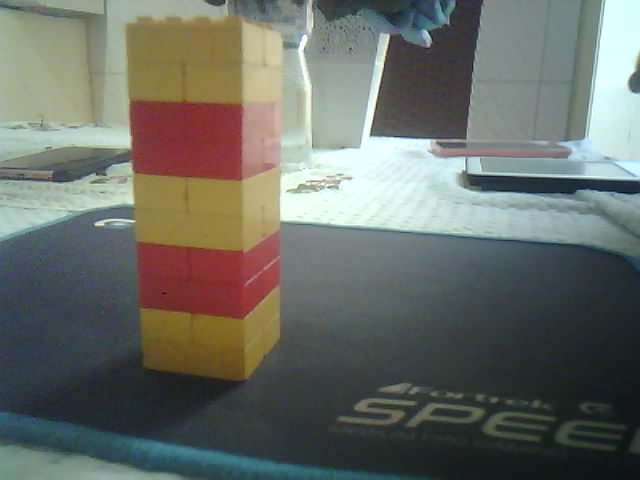lego: (122, 14, 284, 382)
